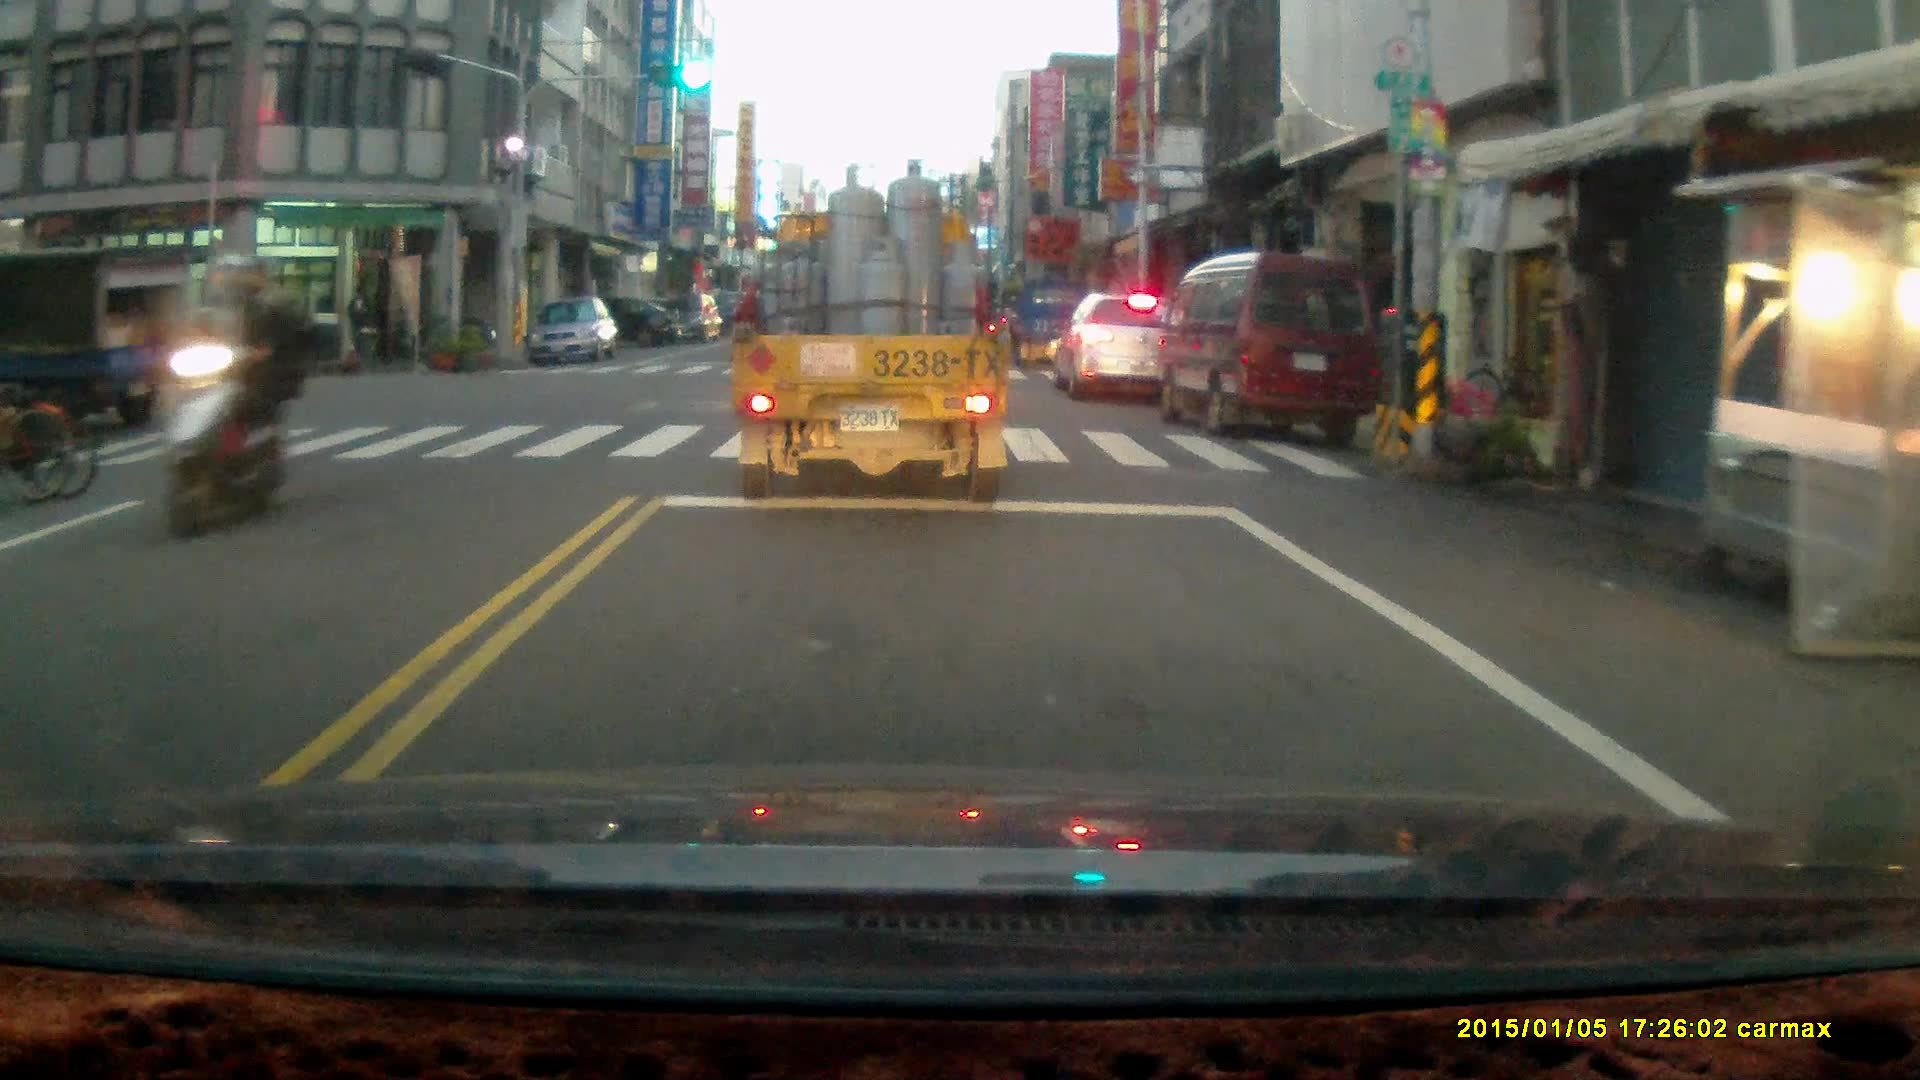pedestrian: (343, 281, 377, 375)
rider: (157, 248, 284, 540)
vehicle: (734, 166, 1014, 509), (1158, 253, 1386, 444), (1, 247, 183, 431), (1047, 290, 1196, 410), (1006, 278, 1102, 377), (555, 298, 682, 357), (528, 297, 623, 368), (644, 292, 722, 343)
